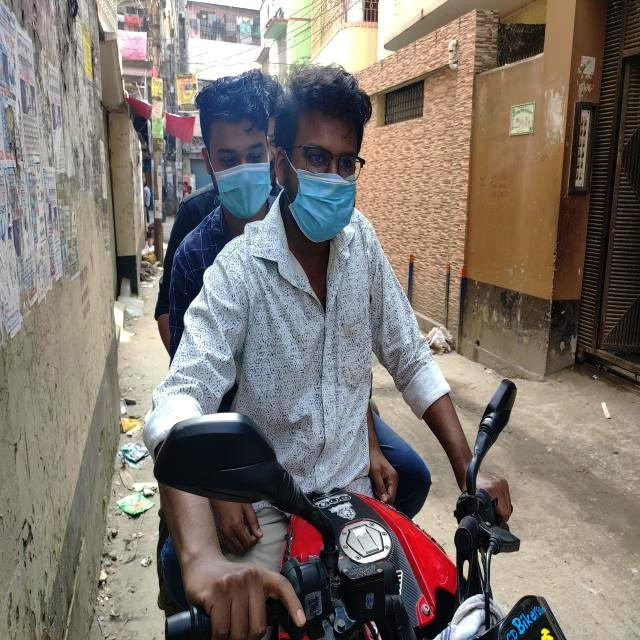motorcycle: (128, 382, 578, 640)
person: (137, 62, 520, 640), (154, 100, 444, 516), (161, 76, 273, 548)
rider_region: (144, 65, 575, 640)
